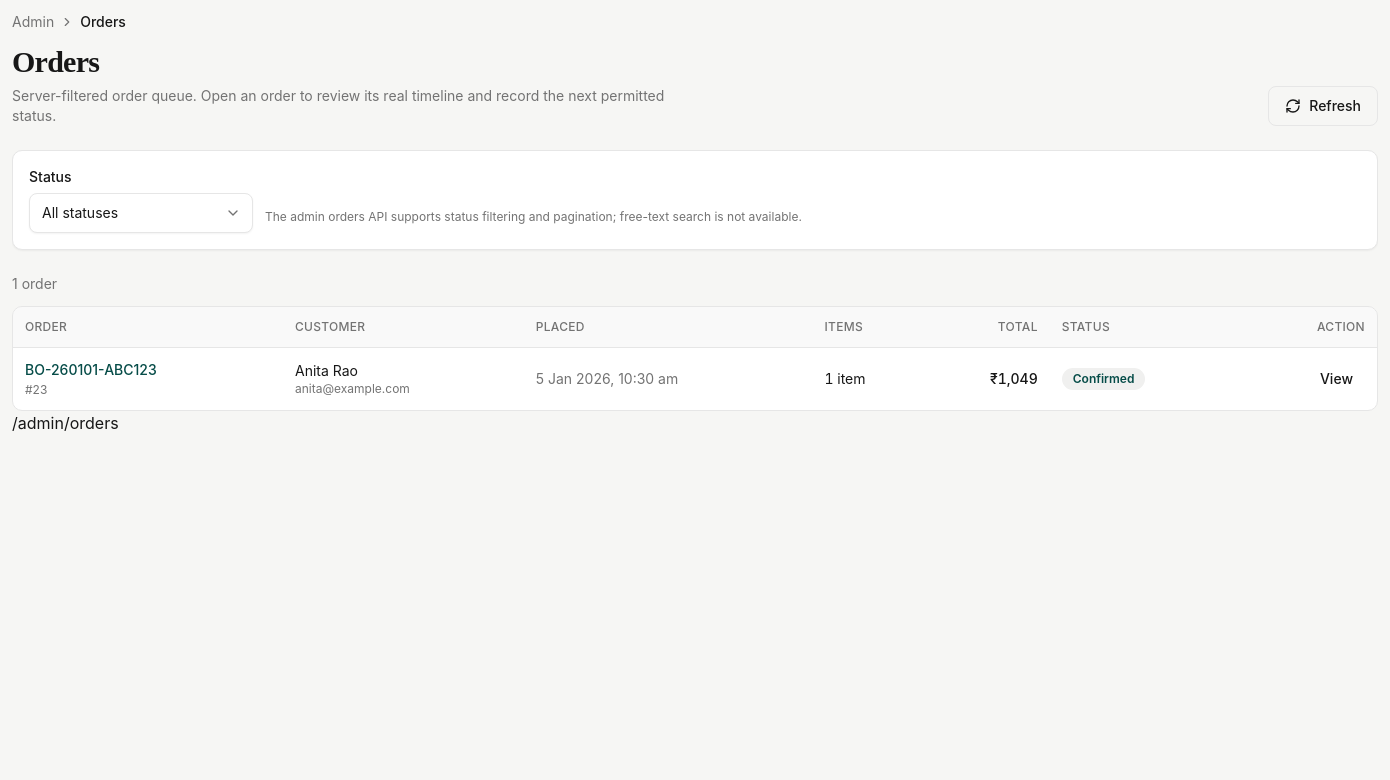
AdminOrdersPage › filters the server by status and clears the filter
Select "Shipped" in the dropdown labelled "Status" at (141, 213), box [29,193,253,233]
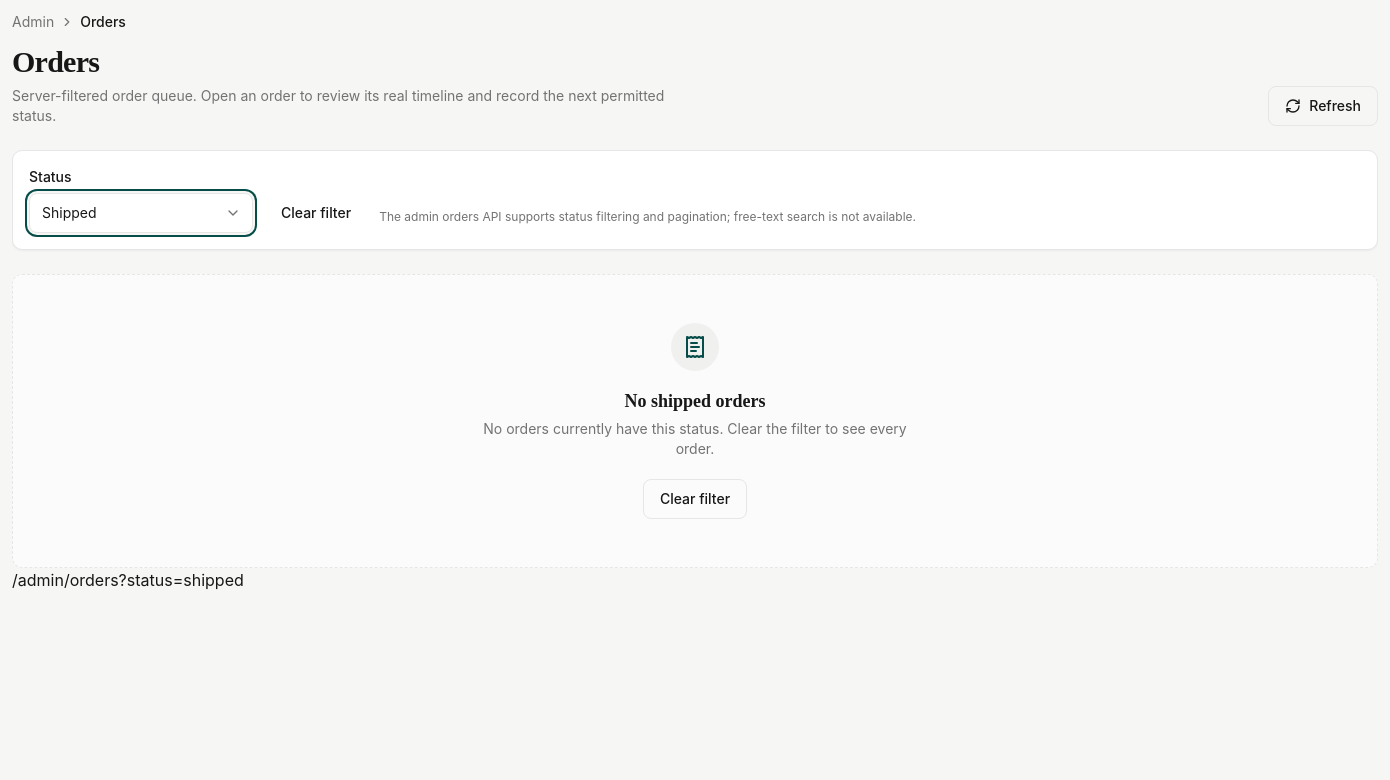
Check: the text with test id "location" shows "status=shipped", box [119,570,244,590]
Check: the heading "No shipped orders" is shown, box [624,387,766,415]
Click the 1st link "Clear filter" at (316, 212), box [281,204,351,221]
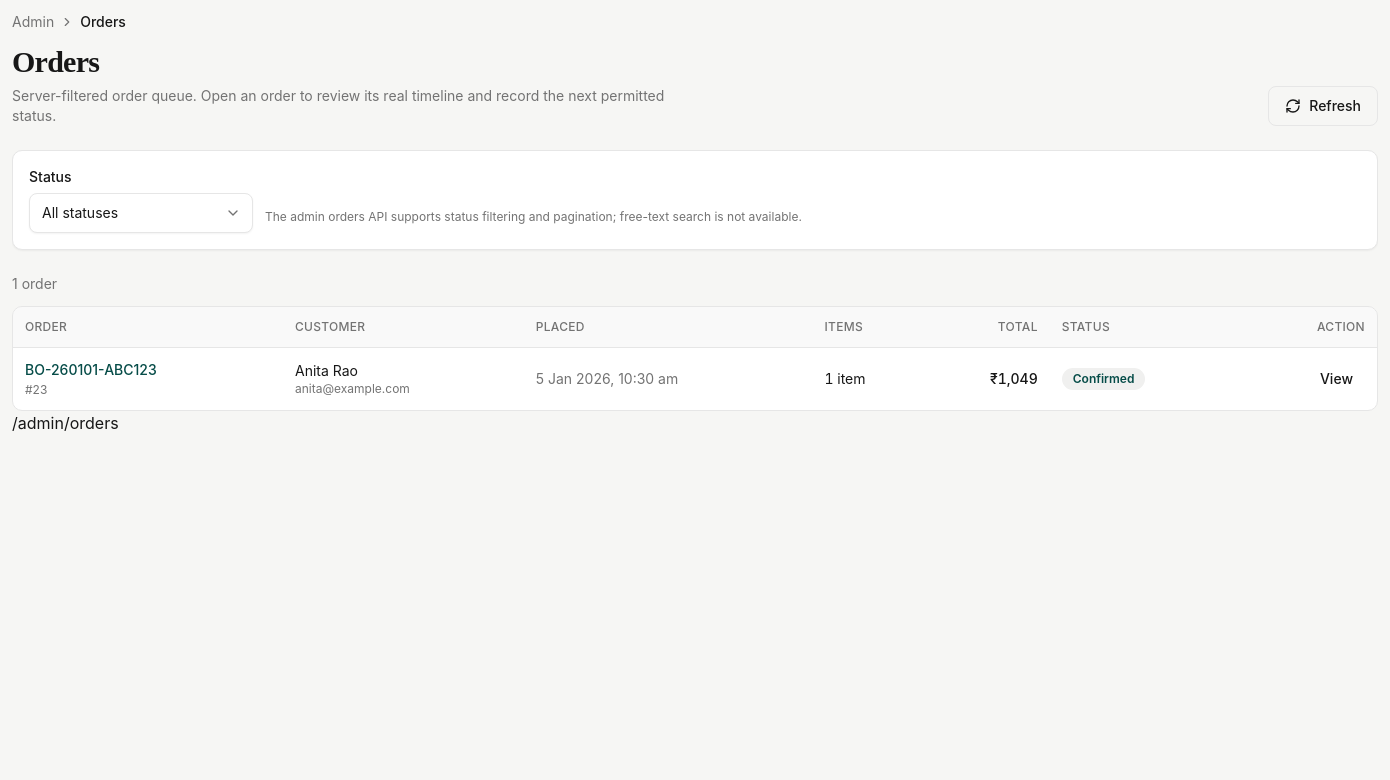
Check: the text with test id "location" no longer shows "status=", box [12,413,119,433]
